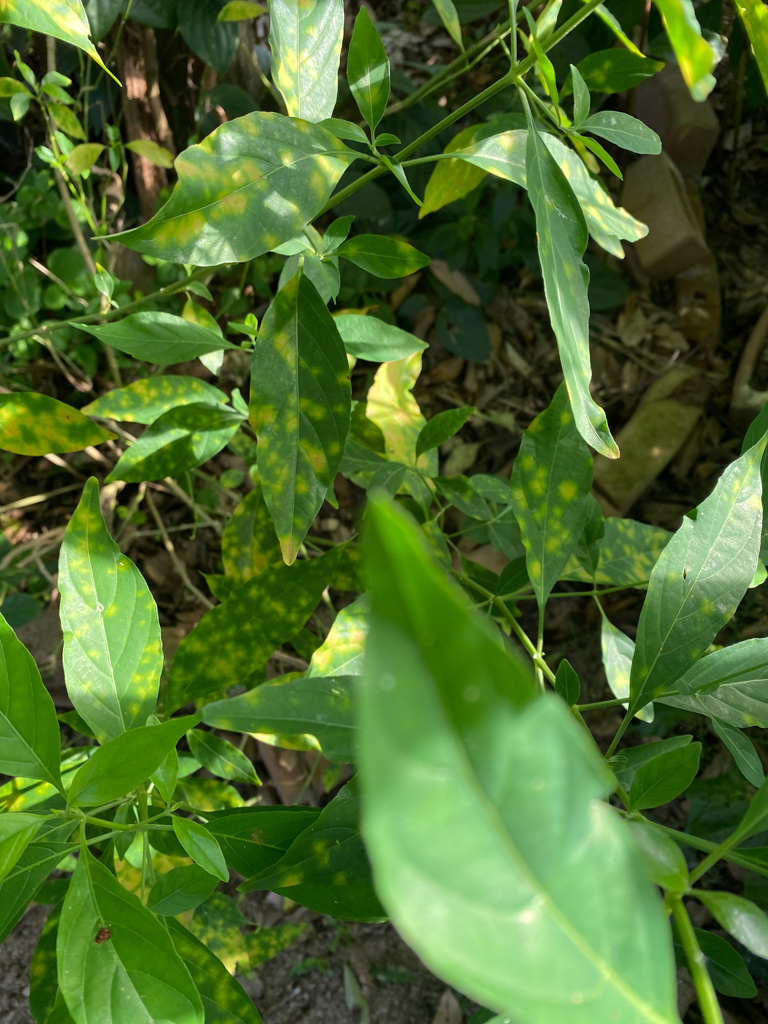Pepper yellow leaf: (111, 120, 354, 267), (45, 483, 164, 733), (254, 312, 357, 569), (167, 567, 319, 708), (514, 383, 593, 627), (193, 894, 306, 990), (564, 518, 690, 595), (367, 345, 443, 471), (113, 409, 235, 487), (1, 390, 116, 464), (111, 835, 200, 926), (89, 377, 220, 431), (215, 497, 280, 578)
